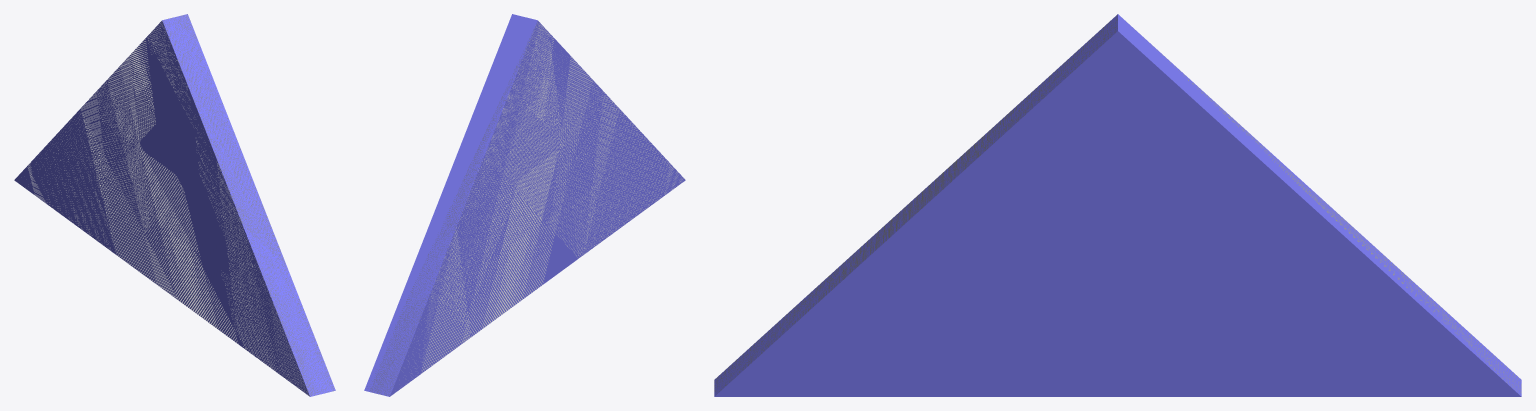
The model's file is SM_Dummy_Triangle_Wall.fbx.
3 renders of one model, left to right at view 1: azimuth 30°, elevation 25°; view 2: azimuth 150°, elevation 25°; view 3: azimuth 270°, elevation 25°, orthographic. The views are drawn at different scales.
Visible parts, largest first — view 1: SM_Dummy_Triangle_Wall, SM_Dummy_Triangle_Wall_ConvexHulls; view 2: SM_Dummy_Triangle_Wall, SM_Dummy_Triangle_Wall_ConvexHulls; view 3: SM_Dummy_Triangle_Wall, SM_Dummy_Triangle_Wall_ConvexHulls.
Part boxes in pixels (box(x1,y1,x2,y2)): SM_Dummy_Triangle_Wall: box(14, 14, 335, 396); SM_Dummy_Triangle_Wall_ConvexHulls: box(27, 14, 335, 395); SM_Dummy_Triangle_Wall: box(364, 14, 685, 396); SM_Dummy_Triangle_Wall_ConvexHulls: box(367, 22, 683, 396); SM_Dummy_Triangle_Wall: box(714, 14, 1521, 396); SM_Dummy_Triangle_Wall_ConvexHulls: box(714, 15, 1521, 394).
Bounding box in the file's own units: 15 × 300 × 150.
2 materials, 1 textured.
